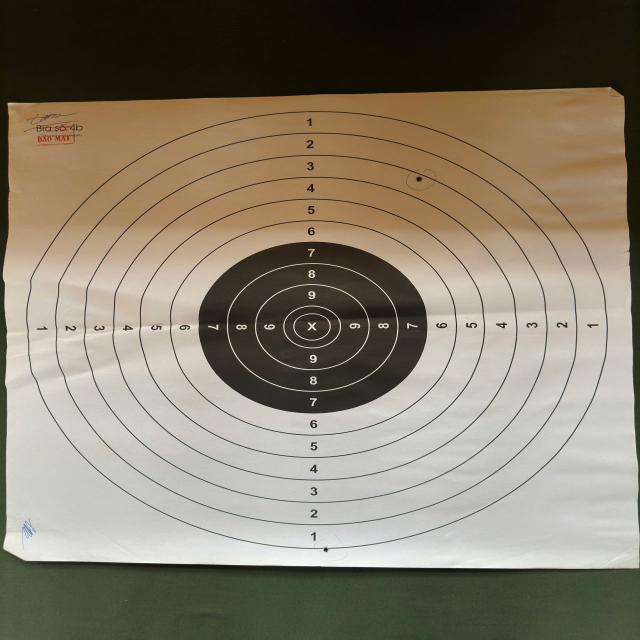bullet: (416, 175, 423, 182)
target: (5, 88, 638, 568)
